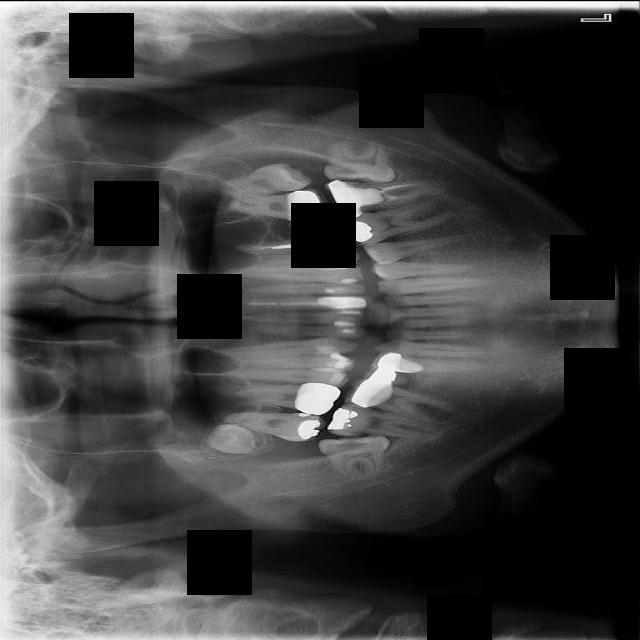3M ESPE Implant: (203, 415, 261, 460)
52: (341, 338, 426, 418), (277, 181, 340, 260), (290, 379, 343, 418), (325, 178, 375, 218), (338, 209, 388, 248), (329, 401, 374, 436), (313, 243, 363, 272), (278, 413, 324, 442), (308, 350, 357, 371), (318, 308, 374, 326), (315, 319, 366, 338), (305, 366, 350, 387), (317, 264, 364, 282), (315, 279, 369, 294), (313, 337, 357, 355), (318, 295, 367, 309)
73: (358, 178, 436, 211), (235, 235, 311, 257), (243, 295, 328, 310), (568, 16, 582, 26)
BioHorizons Implant: (221, 185, 331, 225)
BioLife Implant: (220, 156, 312, 201)
Biomet 3i Implant: (322, 135, 401, 185)
Blue Sky Bio Implant: (326, 178, 435, 218)
Caries: (220, 411, 329, 441)
Implant: (326, 401, 437, 441)
Keystone Dental Implant: (316, 433, 392, 481)
